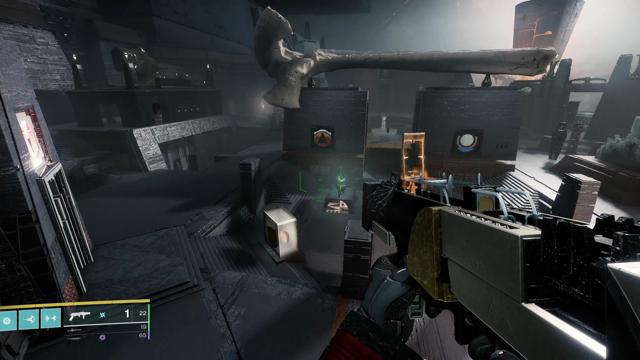pyramid: (313, 128, 332, 147)
traveler: (456, 133, 478, 152)
